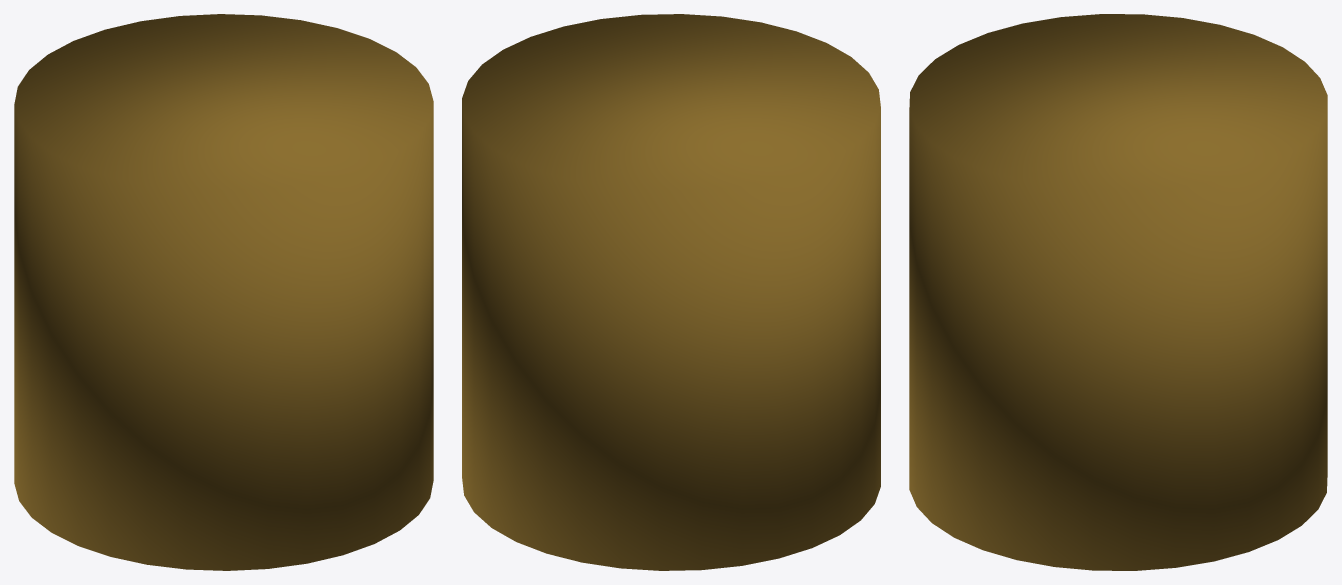
The model's file is kwc.fbx.
3 renders of one model, left to right at view 1: azimuth 30°, elevation 25°; view 2: azimuth 150°, elevation 25°; view 3: azimuth 270°, elevation 25°, orthographic.
Parts seen in each view (by area): view 1: Cylinder.015; view 2: Cylinder.015; view 3: Cylinder.015.
Boxes of the visible parts, <box> form: Cylinder.015: <box>14,14,433,570</box>; Cylinder.015: <box>462,14,880,570</box>; Cylinder.015: <box>909,14,1327,570</box>.
Size of the model in its own units: 151377 by 151882 by 151377.
